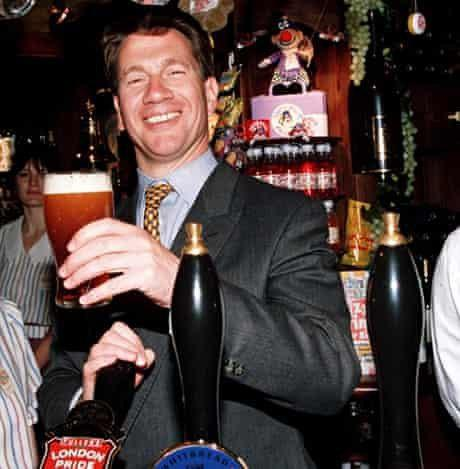Drunk: (114, 36, 204, 152)
